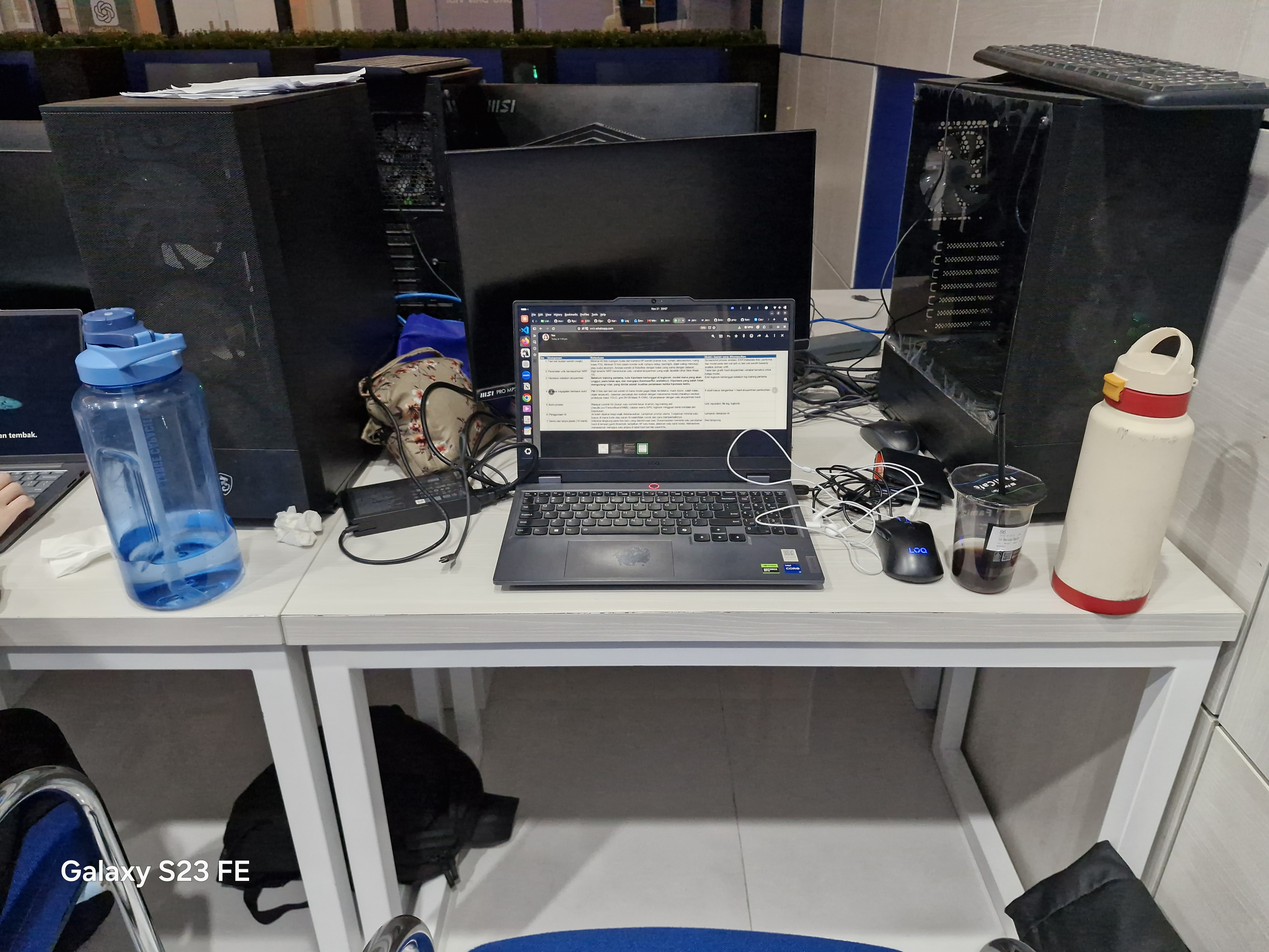backpack: (226, 709, 520, 919)
bottle: (72, 308, 243, 609), (1052, 328, 1195, 614)
chair: (0, 708, 163, 951), (471, 927, 896, 951)
cup: (949, 463, 1046, 593)
floor-other-merged: (0, 666, 1268, 951), (78, 895, 136, 951)
handbag: (359, 348, 473, 476)
keyboard: (974, 44, 1268, 108)
laptop: (494, 298, 823, 588), (0, 309, 86, 476)
mouse: (873, 517, 943, 583)
table-merged: (0, 447, 1244, 657)
tv: (447, 130, 815, 384)
